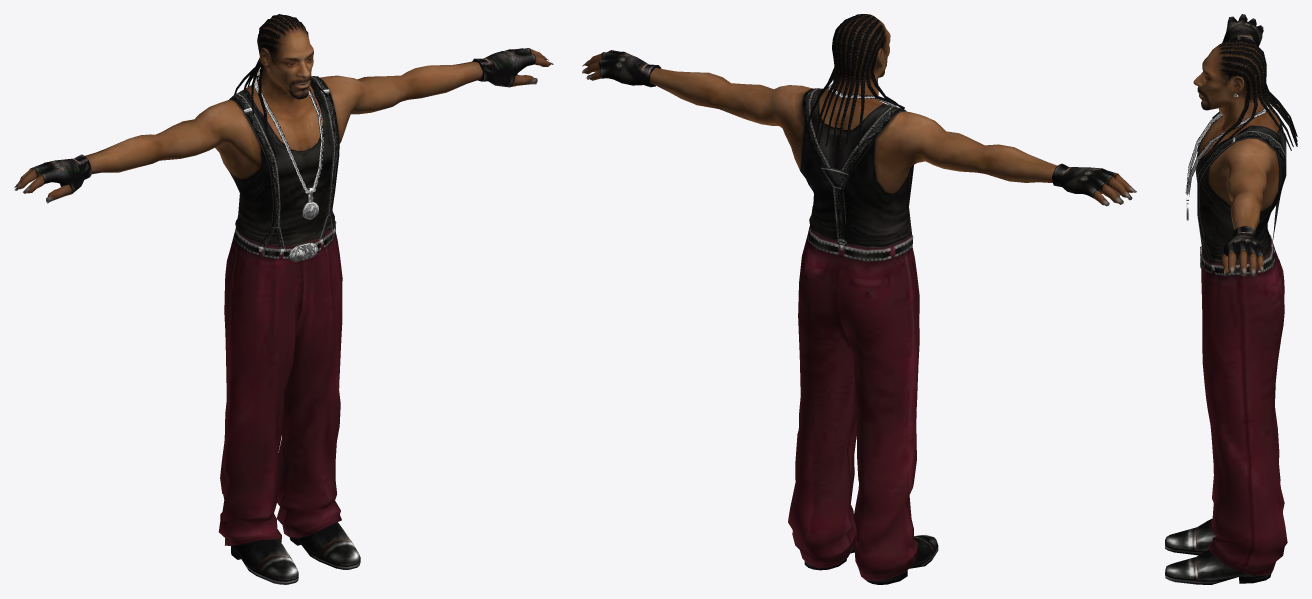
The model's file is par-transformed.glb.
3 views of the same model, side by side, from view 1: azimuth 30°, elevation 25°; view 2: azimuth 150°, elevation 25°; view 3: azimuth 270°, elevation 25° (orthographic). The views are drawn at different scales.
Visible parts, largest first — view 1: snoop_dog.001; view 2: snoop_dog.001; view 3: snoop_dog.001.
Boxes of the visible parts, <box> form: snoop_dog.001: <box>14,14,553,584</box>; snoop_dog.001: <box>582,14,1136,584</box>; snoop_dog.001: <box>1165,14,1297,584</box>.
Bounding box in the file's own units: 2.62 × 2.49 × 0.5773.
1 material, 1 textured.
